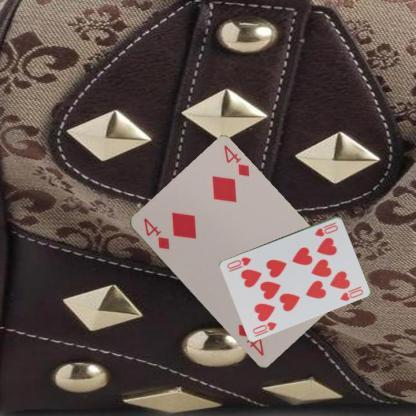10h: (312, 219, 339, 238), (250, 319, 278, 335)
4d: (140, 215, 170, 251)
